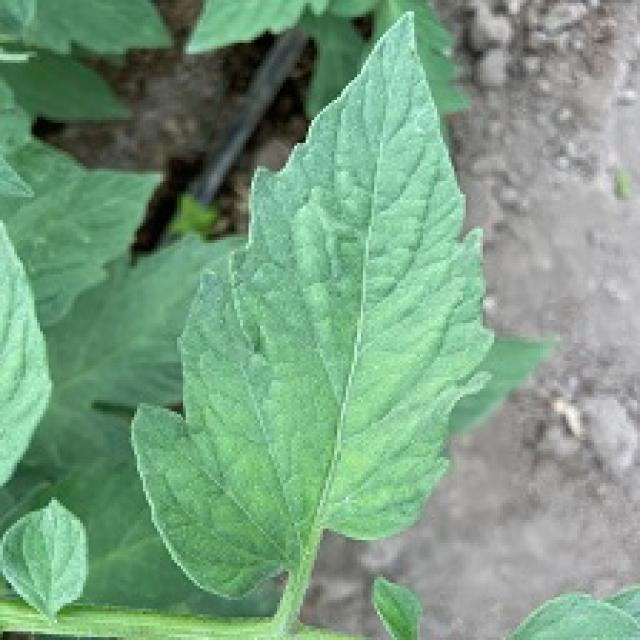Healthy: (77, 0, 608, 640)
